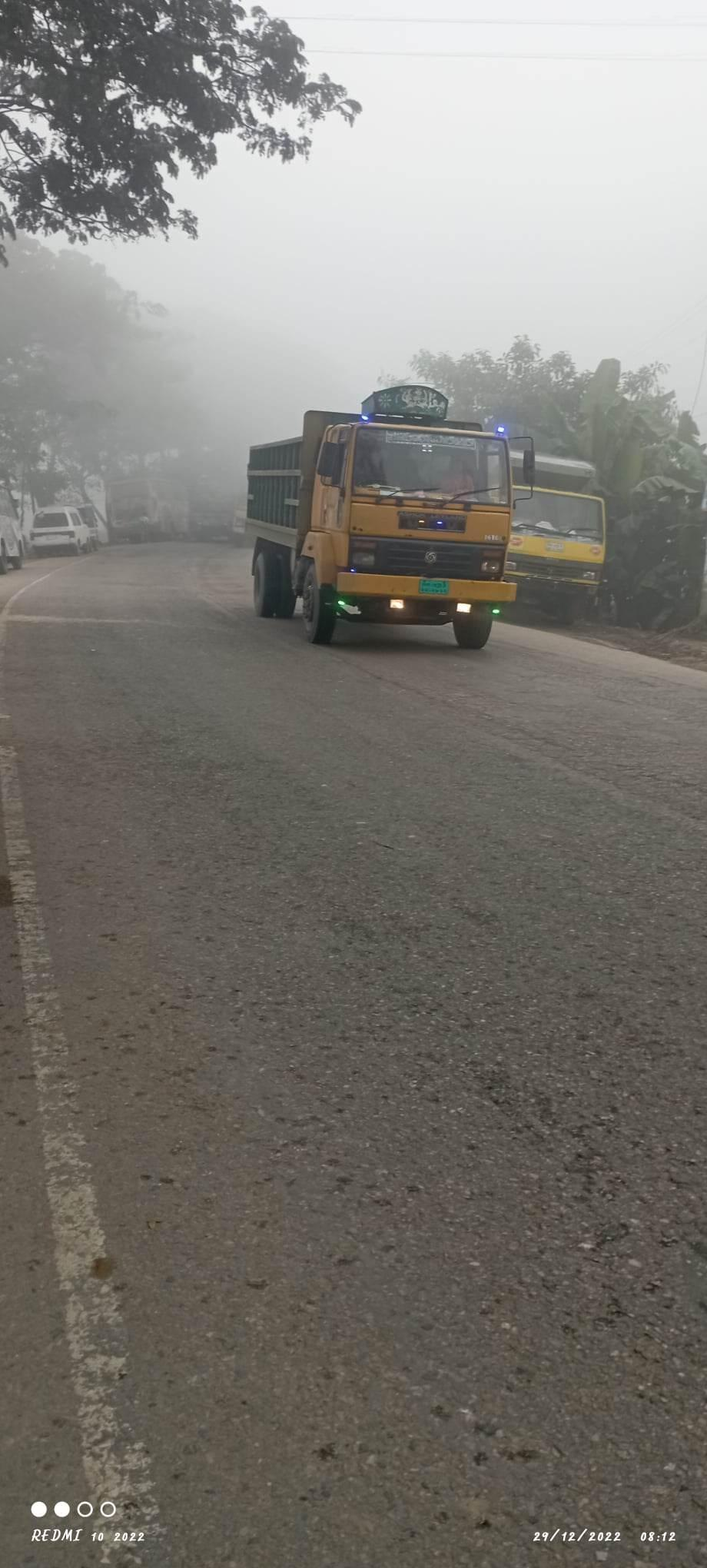Car: (21, 488, 109, 578)
Truck: (227, 365, 525, 733), (508, 422, 631, 646)
